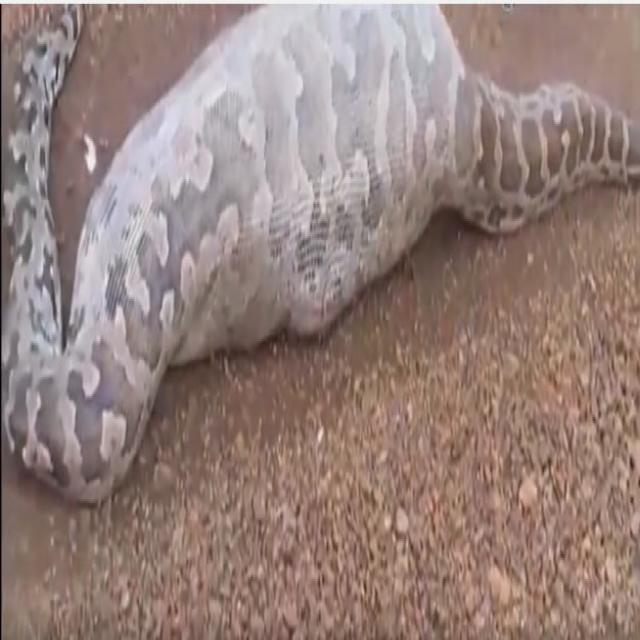Snake: (3, 0, 640, 510)
